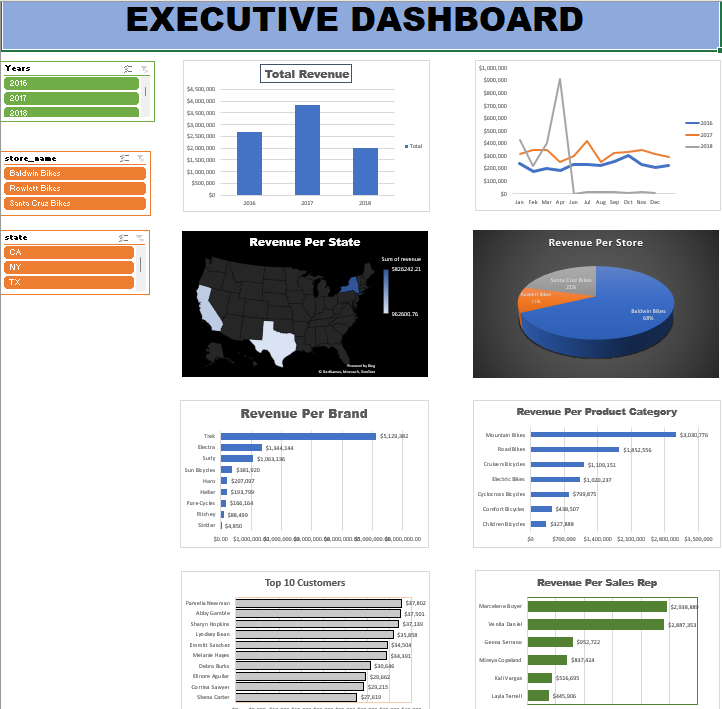

What the dashboard file says about the page in this screenshot:
{"tool":"tableau","page":{"name":"Dashboard 1","canvas":[1000,1000],"units":"permille","ordinal":0},"visuals":[{"type":"image","param":"Image/images.png","box":[6.1,4,165.1,59]},{"type":"text","box":[171.2,4,595.8,59]},{"type":"worksheet","title":"Year","mark":"Automatic","box":[767,4,226.9,52.5]},{"type":"worksheet","title":"Banner","mark":"Automatic","box":[6.1,63,987.8,53.5]},{"type":"worksheet","title":"title","mark":"Automatic","box":[6.1,116.5,848.3,28]},{"type":"filter","title":"Revenue/Map","param":"[federated.1alr1tf1o0i0g111shnxw07l5fxa].[none:state:nk]","box":[854.4,116.5,139.5,28]},{"type":"worksheet","title":"Revenue/Year","mark":"Bar","rows":["revenue"],"cols":["order_date"],"box":[6.1,144.5,460.9,168.5]},{"type":"worksheet","title":"Revenue/Month","mark":"Line","rows":["revenue"],"cols":["order_date"],"box":[467.1,144.5,526.8,168.5]},{"type":"worksheet","title":"Revenue/Map","mark":"Multipolygon","box":[6.1,313,573,203.5]},{"type":"worksheet","title":"Revenue/store","mark":"Pie","box":[579.1,313,414.8,203.5]},{"type":"worksheet","title":"Revenue/BrandName","mark":"Pie","box":[6.1,516.5,443.8,191.5]},{"type":"worksheet","title":"Revenue/Category","mark":"Automatic","box":[449.9,516.5,544,175.5]},{"type":"worksheet","title":"Top Customers","mark":"Automatic","rows":["customers"],"cols":["revenue"],"box":[6.1,708,443.8,288]},{"type":"worksheet","title":"Revenue/Sales Rep","mark":"Automatic","rows":["sales_rep"],"cols":["revenue"],"box":[449.9,708,544,272]},{"type":"blank","box":[449.9,980,544,16]}]}

Visuals, with their boxes on the dashboard's canvas, which has no fixed pixel size, in thousandths of its width and height (x1, y1, x2, y2). These are canvas units, not pixel positions in the 722x709 screenshot, which may show the page scaled, cropped or inside an application window:
image: select_region(6, 4, 171, 63)
text: select_region(171, 4, 767, 63)
"Year" worksheet: select_region(767, 4, 994, 56)
"Banner" worksheet: select_region(6, 63, 994, 116)
"title" worksheet: select_region(6, 116, 854, 144)
"Revenue/Map" filter: select_region(854, 116, 994, 144)
"Revenue/Year" worksheet (Bar marks): select_region(6, 144, 467, 313)
"Revenue/Month" worksheet (Line marks): select_region(467, 144, 994, 313)
"Revenue/Map" worksheet (Multipolygon marks): select_region(6, 313, 579, 516)
"Revenue/store" worksheet (Pie marks): select_region(579, 313, 994, 516)
"Revenue/BrandName" worksheet (Pie marks): select_region(6, 516, 450, 708)
"Revenue/Category" worksheet: select_region(450, 516, 994, 692)
"Top Customers" worksheet: select_region(6, 708, 450, 996)
"Revenue/Sales Rep" worksheet: select_region(450, 708, 994, 980)
blank: select_region(450, 980, 994, 996)
